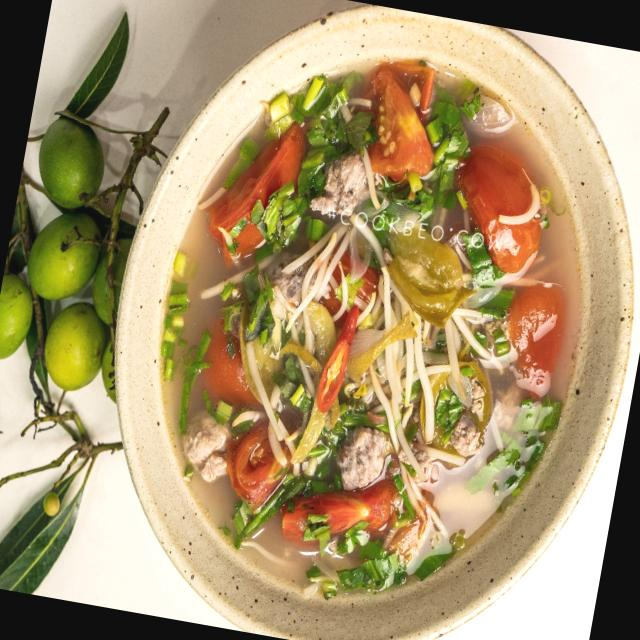canh chua: (178, 65, 564, 599)
ot: (316, 307, 359, 412)
